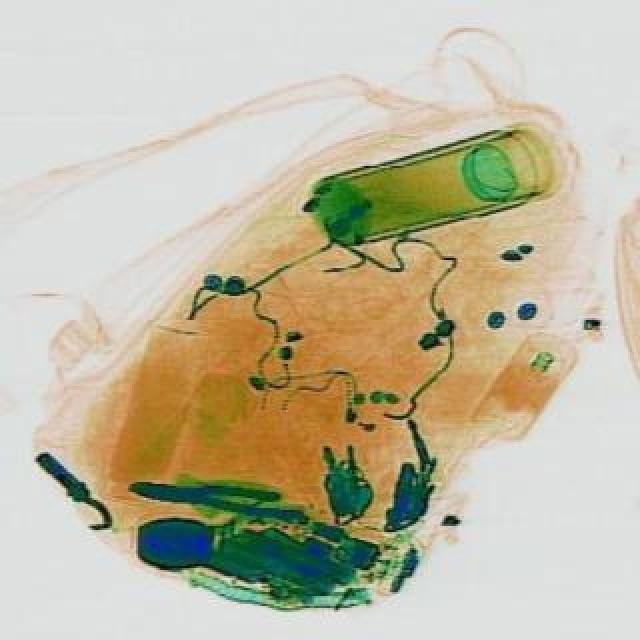wrench: (126, 466, 310, 522)
